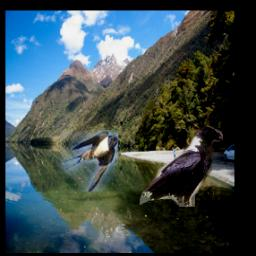Crow: (141, 123, 224, 207)
Swallow: (61, 131, 119, 192)
